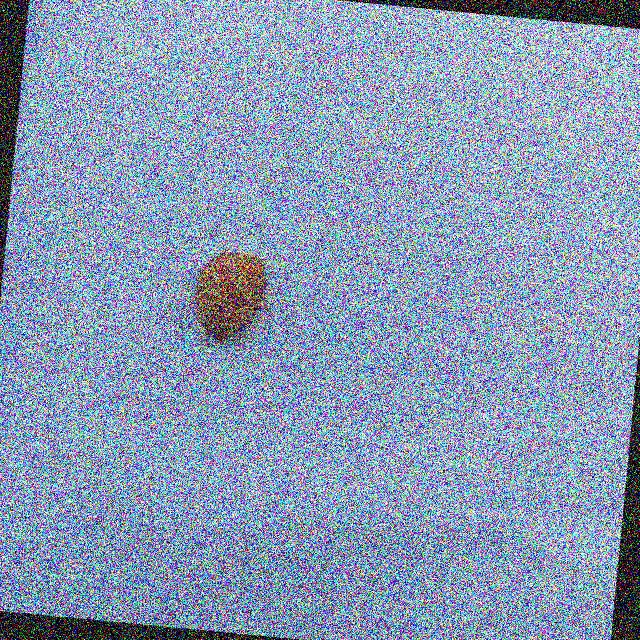grade2: (188, 245, 277, 348)
